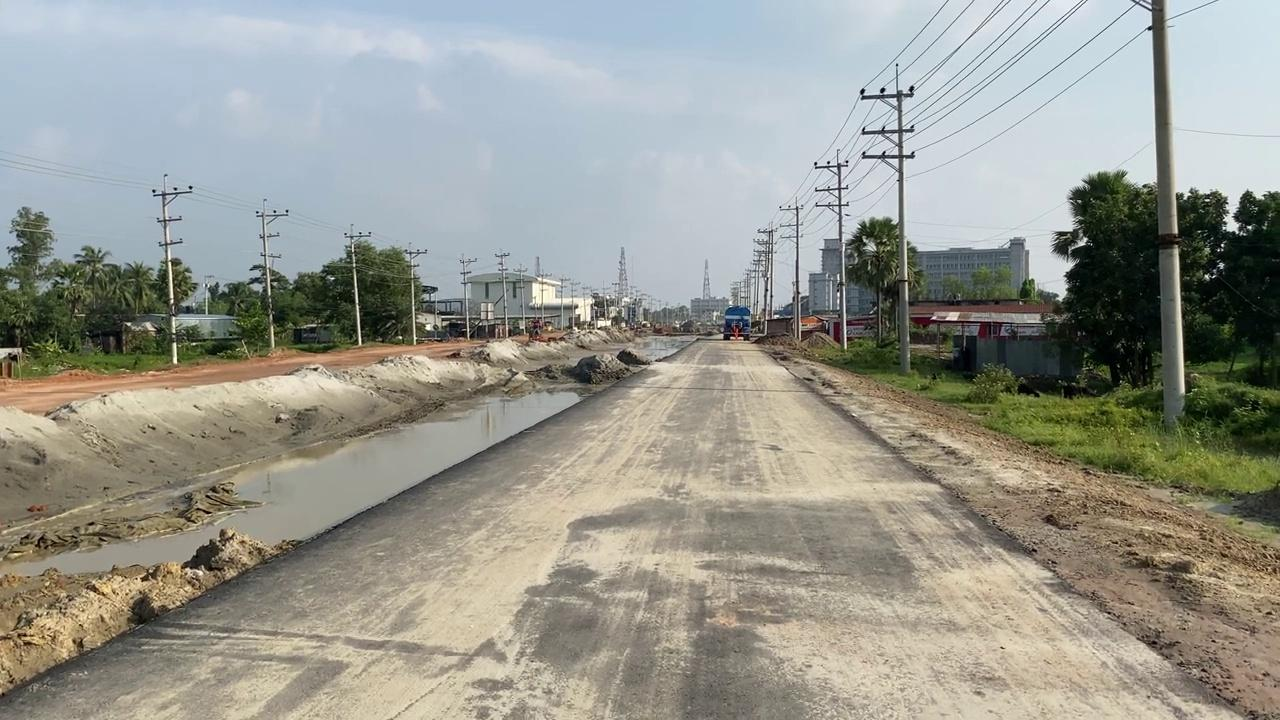Pole: (859, 62, 916, 374), (1149, 0, 1186, 429), (151, 173, 192, 364), (254, 198, 288, 350)
Rickshaw: (315, 282, 1240, 711)
Sidewalk: (1, 379, 596, 582)
Traffic-sign: (1048, 167, 1231, 388), (843, 214, 925, 346)
Tree: (722, 306, 751, 340), (293, 322, 335, 344)
